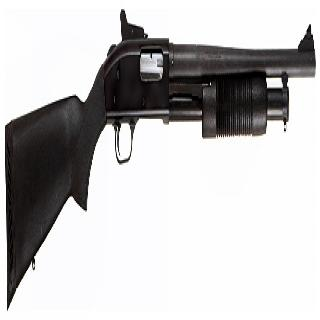gun: (2, 8, 318, 314)
